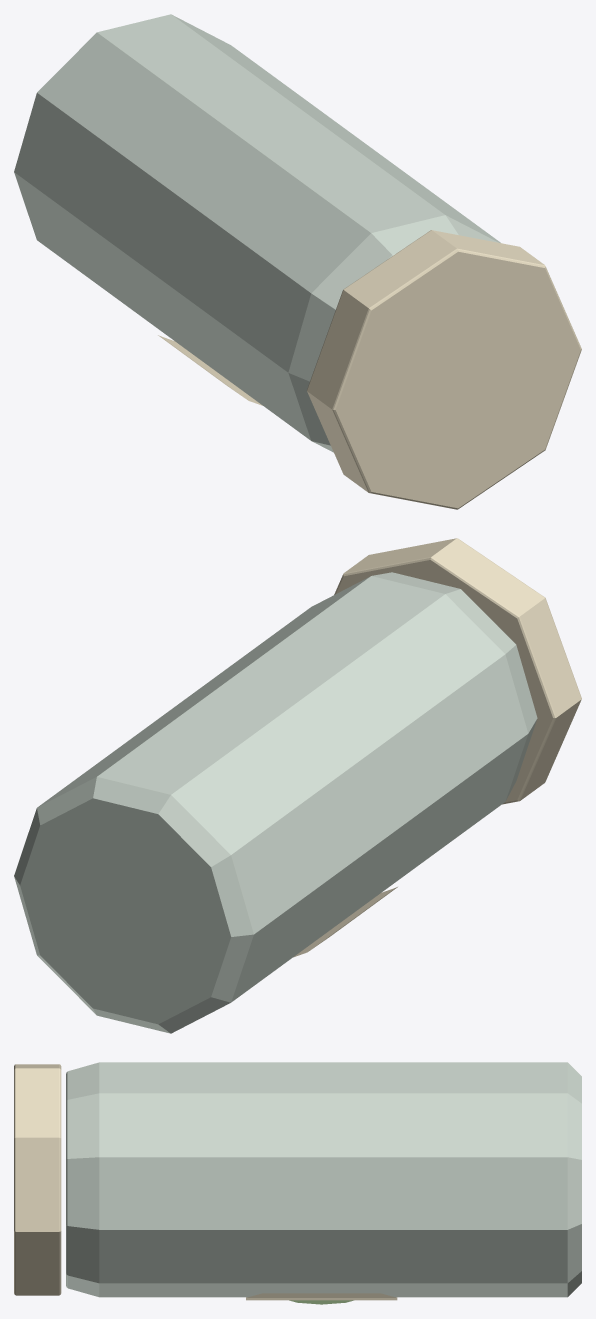
Rendered from vanilla_pods.glb.
3 renders of one model, top to bottom at view 1: azimuth 30°, elevation 25°; view 2: azimuth 150°, elevation 25°; view 3: azimuth 270°, elevation 25°, orthographic. The views are drawn at different scales.
Parts seen in each view (by area): view 1: vanilla_pods; view 2: vanilla_pods; view 3: vanilla_pods.
Boxes of the visible parts, x1,y1,x2,y2 form: vanilla_pods: [14, 14, 581, 509]; vanilla_pods: [14, 538, 581, 1033]; vanilla_pods: [14, 1062, 581, 1304].
Bounding box in the file's own units: 0.052 × 0.0528 × 0.12.
